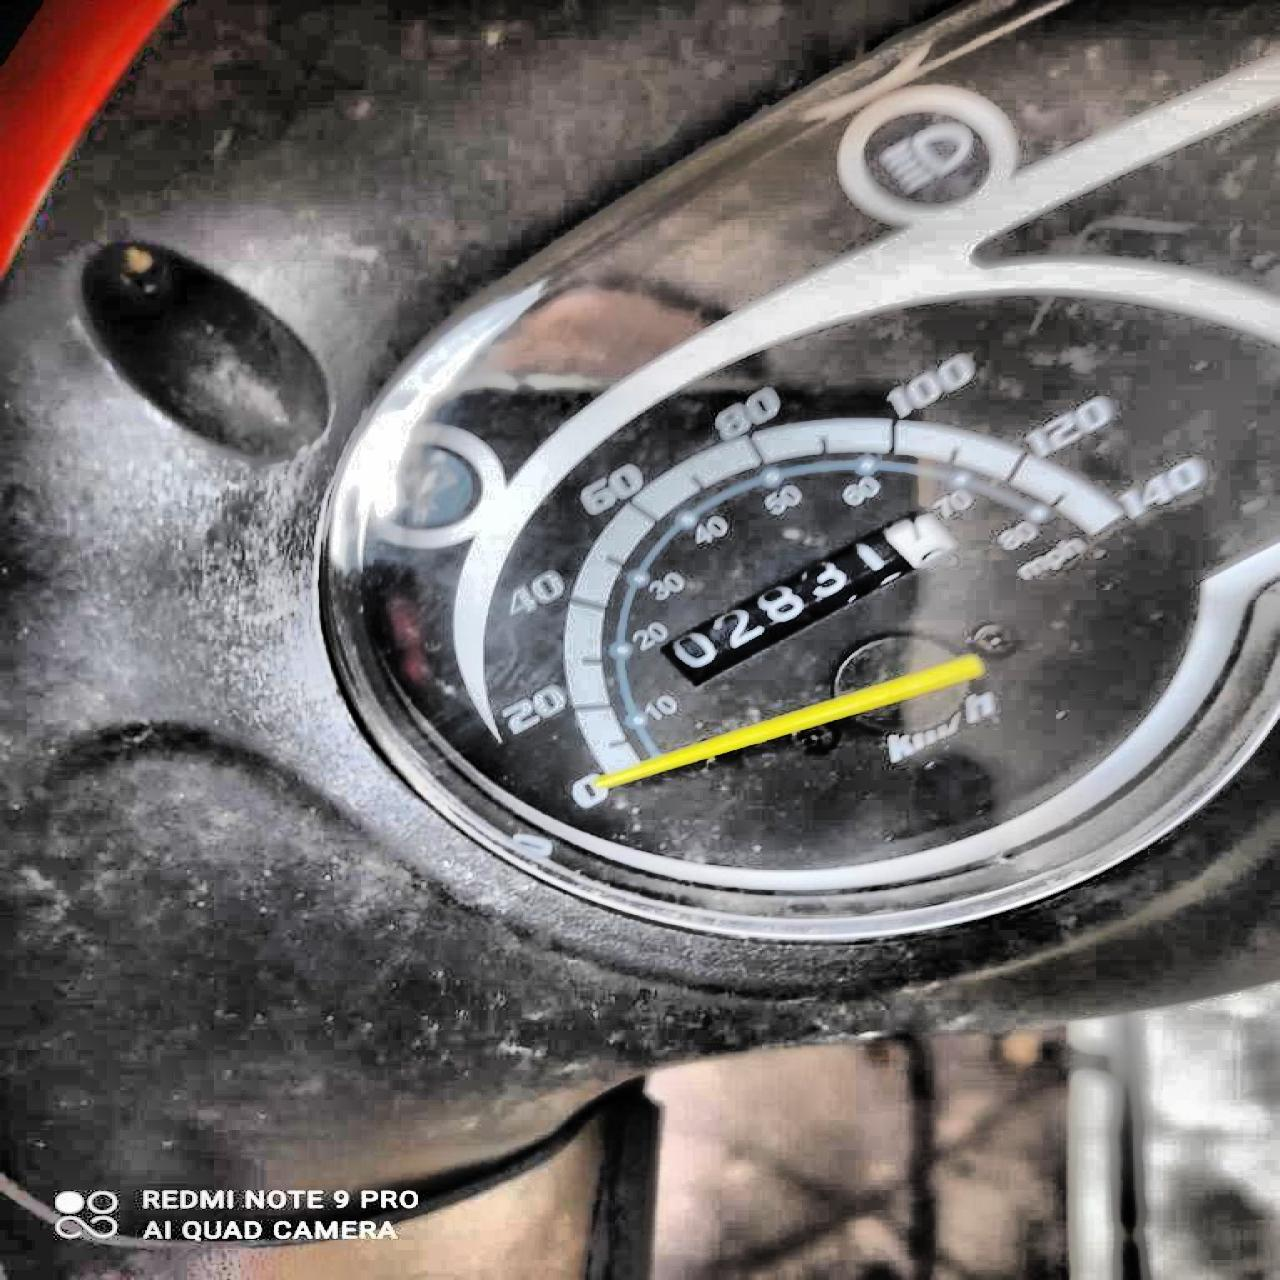0: (667, 627, 715, 667), (703, 512, 729, 537), (662, 568, 683, 591)
1: (847, 535, 886, 574)
2: (708, 604, 765, 648)
3: (797, 557, 847, 599), (655, 579, 668, 601)
4: (690, 520, 710, 545)
7: (883, 508, 921, 542)
8: (754, 581, 803, 622)
odometer: (655, 506, 961, 689)
